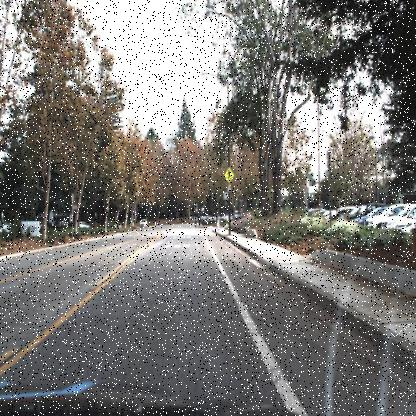car: (72, 216, 90, 234), (138, 217, 148, 229)
